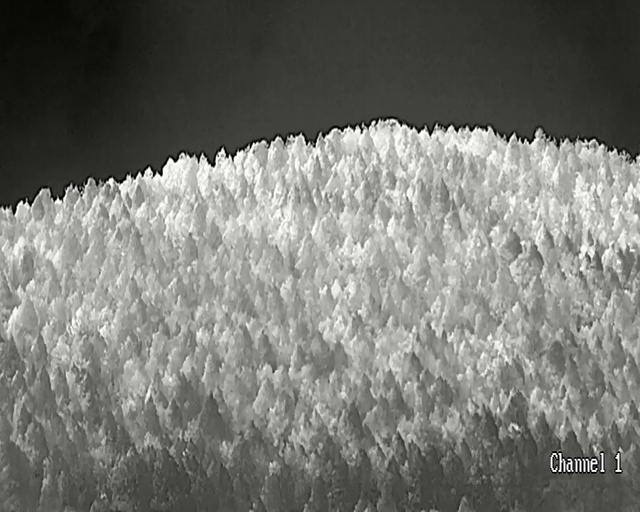uav: (286, 138, 293, 143)
